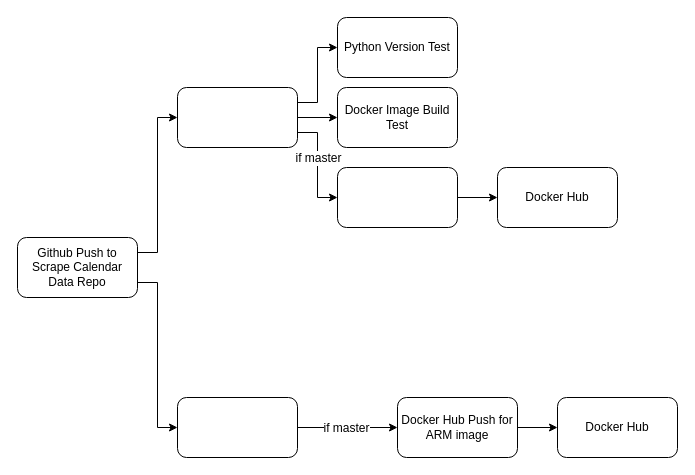
The diagram is 695 pixels wide and 475 high, and some of its shapes have lost their labels. Each missing label, with the centre of its shape:
"Docker Hub Push for amd64 image" goes at point 397,197.
"Github Actions CI" goes at point 237,117.
"Jenkins" goes at point 237,427.
